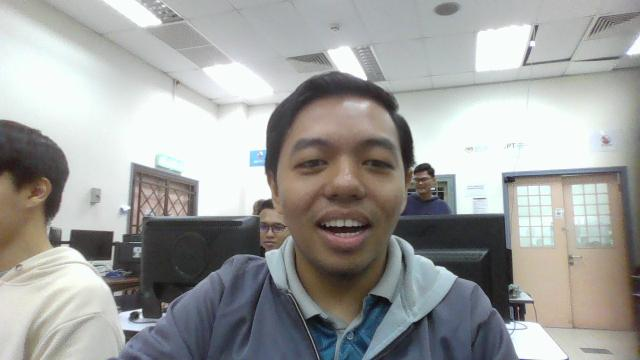senang: (271, 88, 415, 279)
